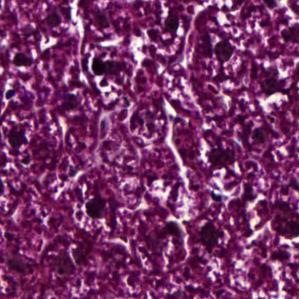inflammation: (244, 189, 299, 242), (84, 48, 137, 91), (74, 193, 115, 231), (198, 141, 238, 178)
